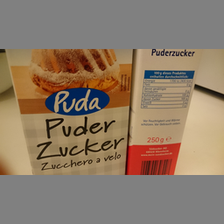tomato_sauce: (4, 49, 132, 173), (127, 49, 200, 174)
